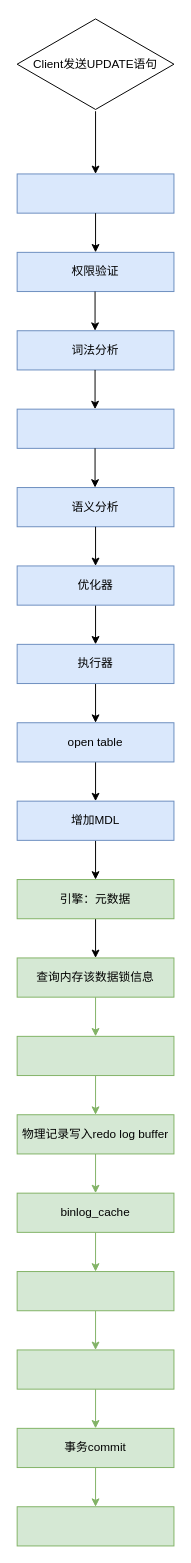
Image size: 191x1563. Some labels were removed from this diagram. The centre of each missing label's shape, as x and y in pixels:
"SQL Interface" belongs at (x=95, y=193).
"事务prepare" belongs at (x=95, y=1369).
"二级索引写入到change buffer" belongs at (x=95, y=1291).
"刷脏" belongs at (x=95, y=1526).
"生成老数据的undo日志" belongs at (x=95, y=1055).
"语法分析" belongs at (x=95, y=428).
